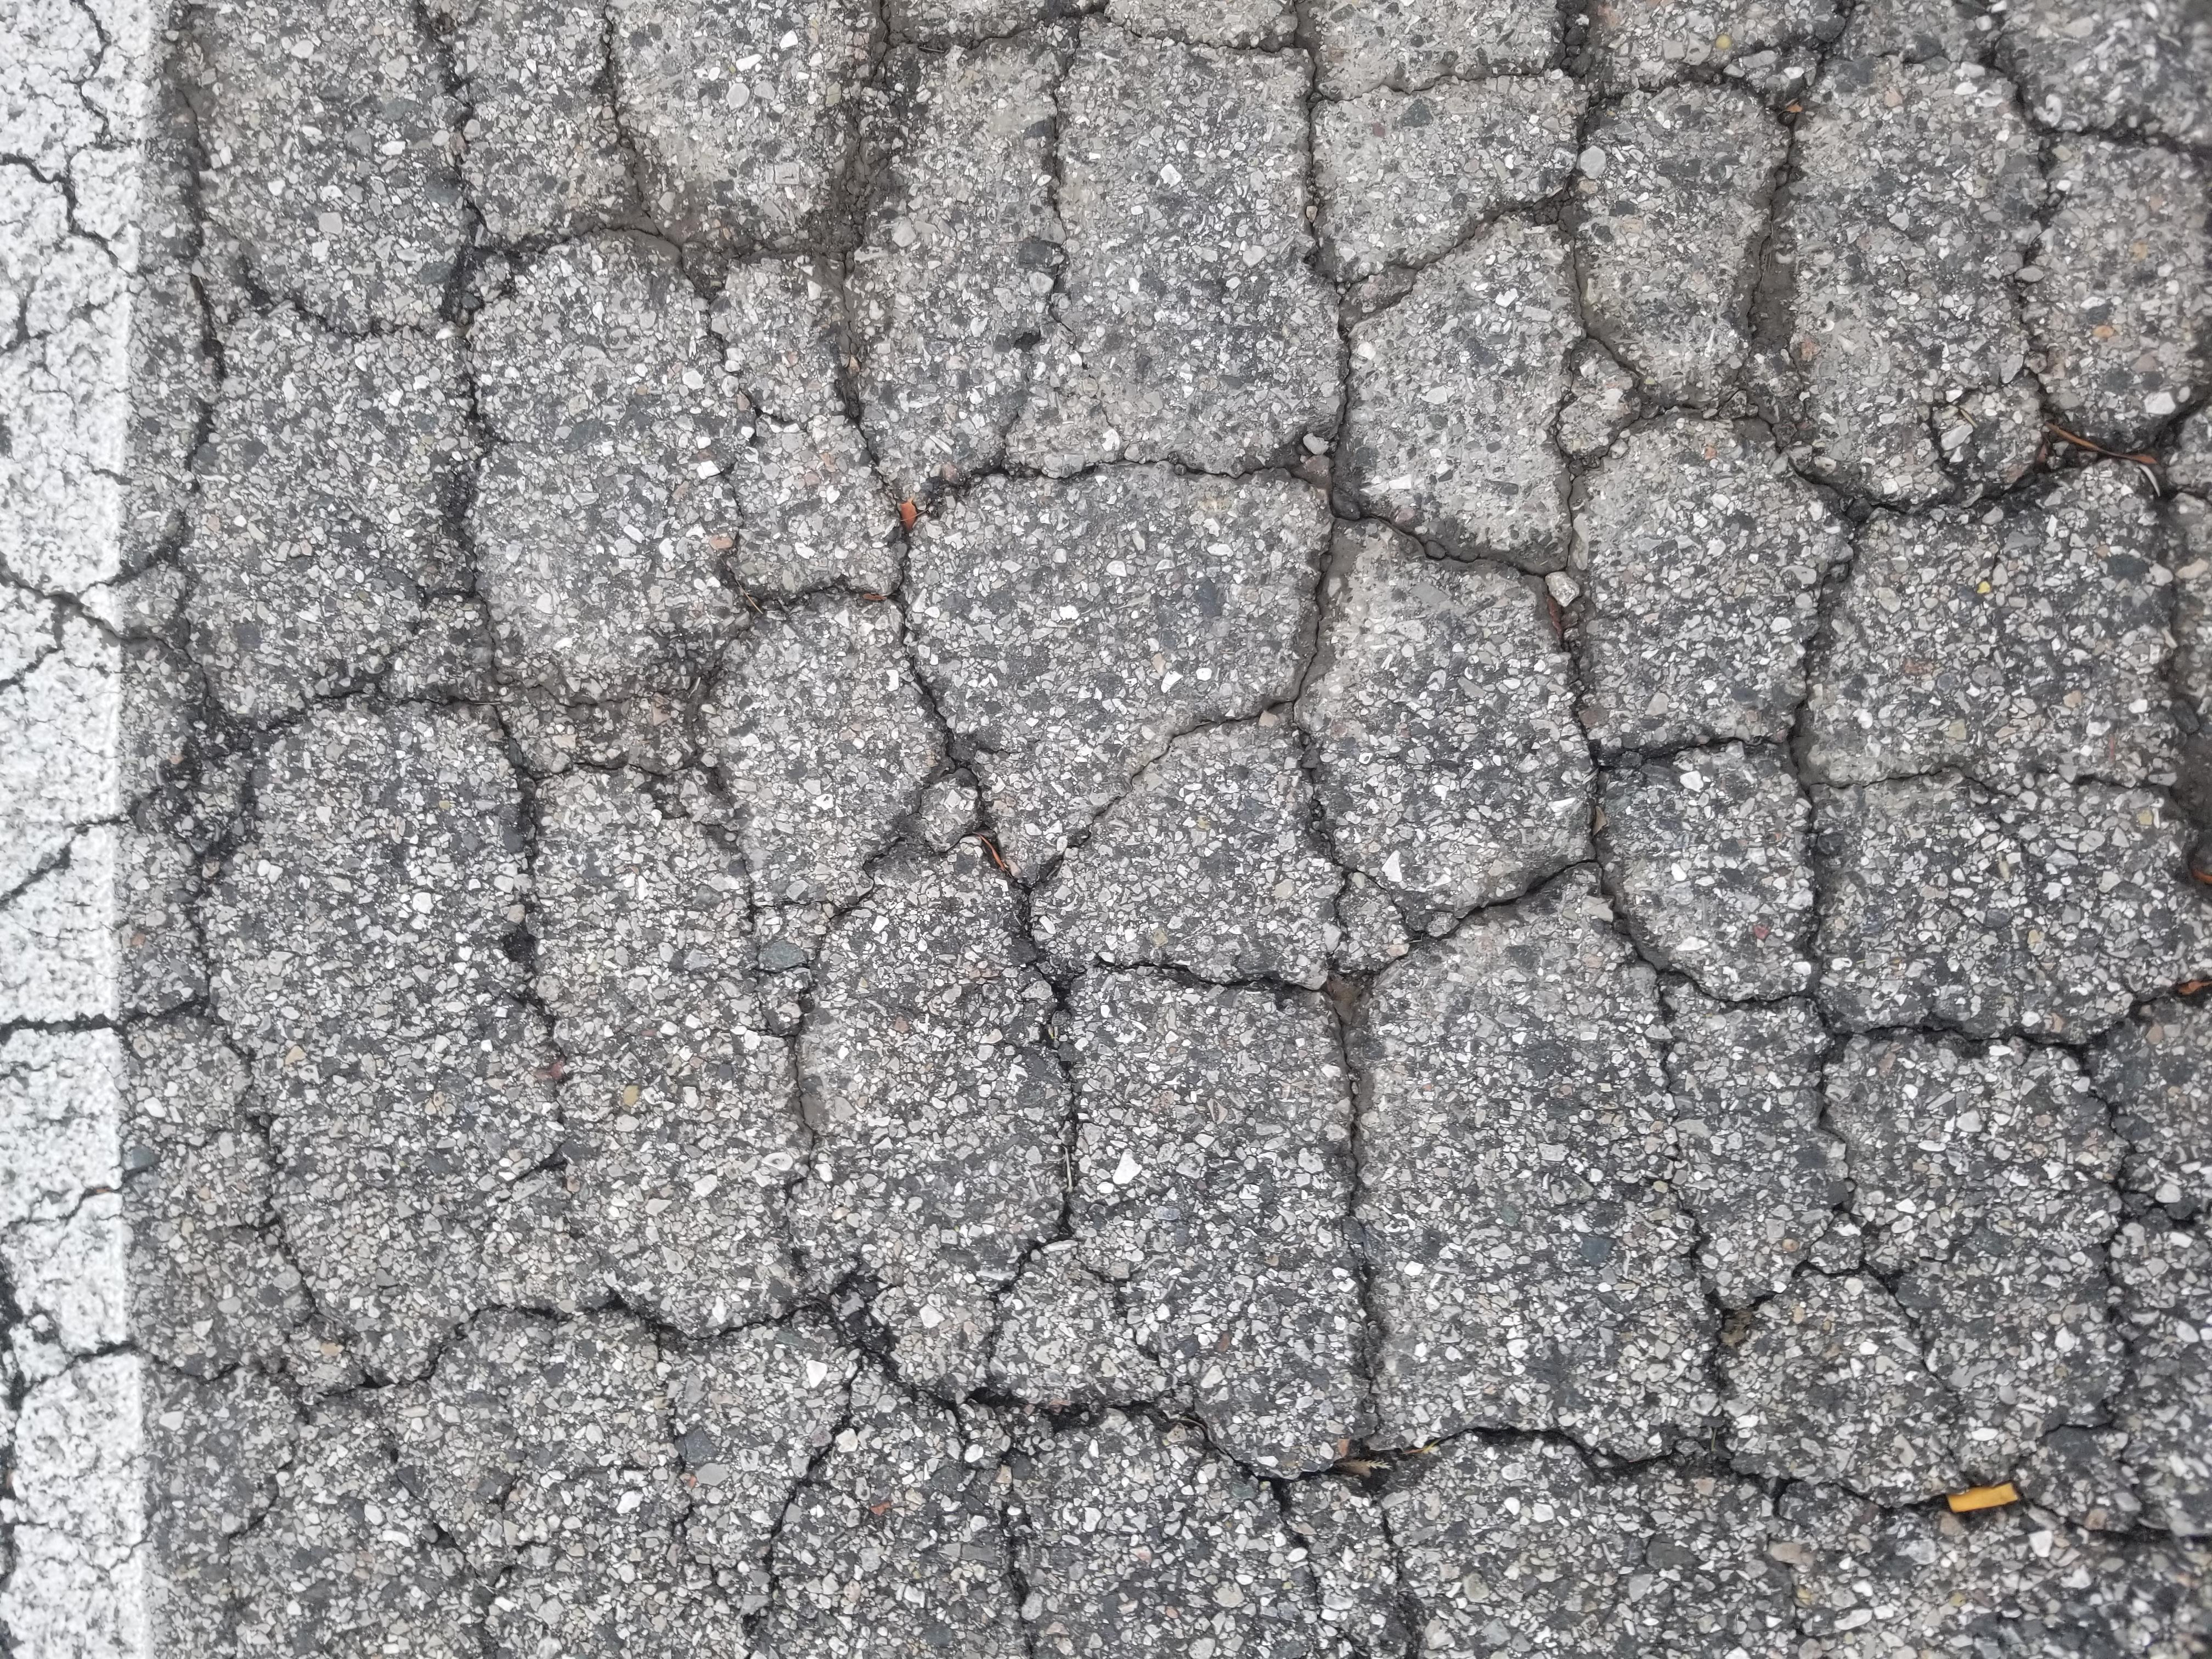alligator-crack: (146, 0, 2212, 1659), (723, 94, 2212, 1659), (369, 0, 1883, 1006), (324, 486, 1467, 1659)
